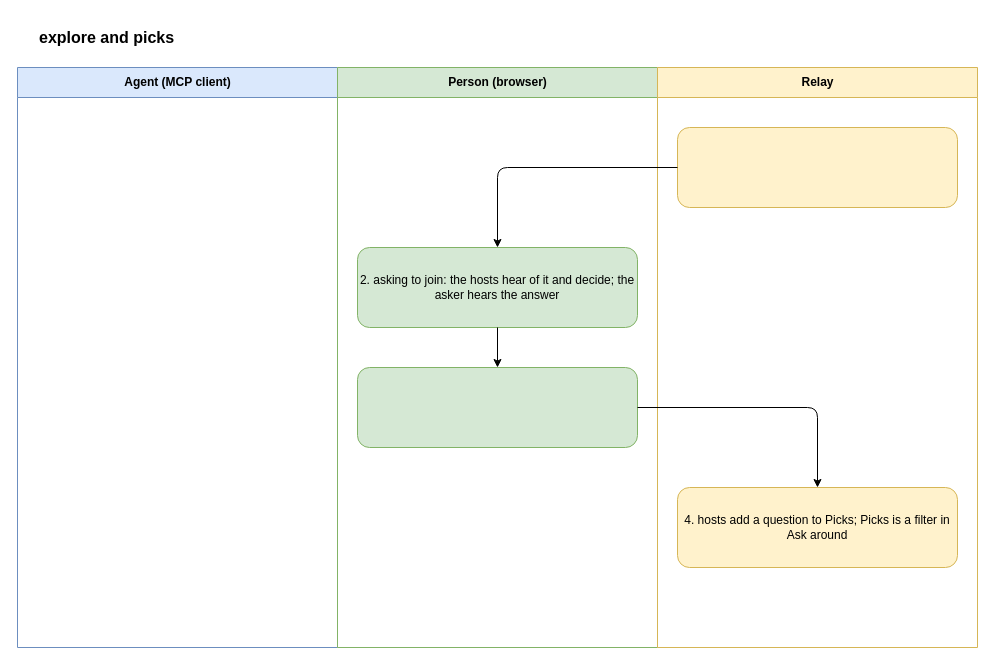
Image size: 995x665. Some labels were removed from this diagram. Here are the shapes that lost their labels. From the top down, the centre of each, then its label:
At point 817,167: "1. only the owner lists a circle, and only with a line about it".
At point 497,407: "3. nobody removed asks again; guests do not see Explore".
